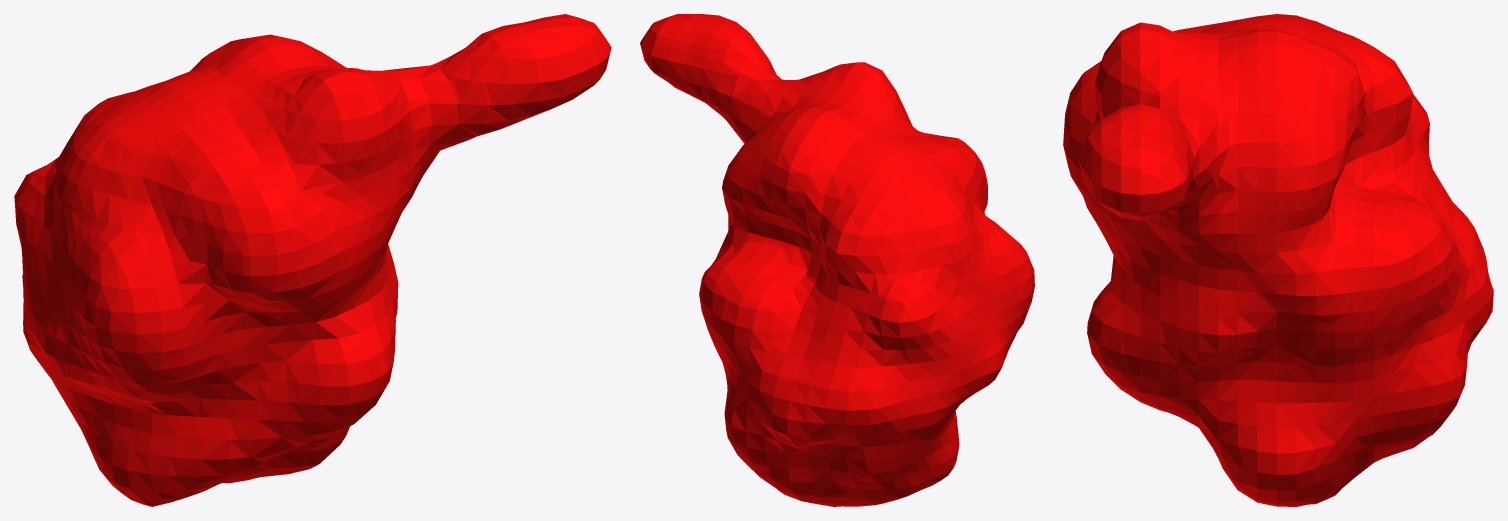
The model's file is yhbS_coarse.dae.
3 renders of one model, left to right at view 1: azimuth 30°, elevation 25°; view 2: azimuth 150°, elevation 25°; view 3: azimuth 270°, elevation 25°, orthographic. The views are drawn at different scales.
Parts seen in each view (by area): view 1: yhbS; view 2: yhbS; view 3: yhbS.
Boxes of the visible parts, <box> form: yhbS: <box>14,14,611,506</box>; yhbS: <box>640,14,1034,506</box>; yhbS: <box>1063,14,1493,506</box>.
Bounding box in the file's own units: 56.31 × 50.5 × 40.71.
